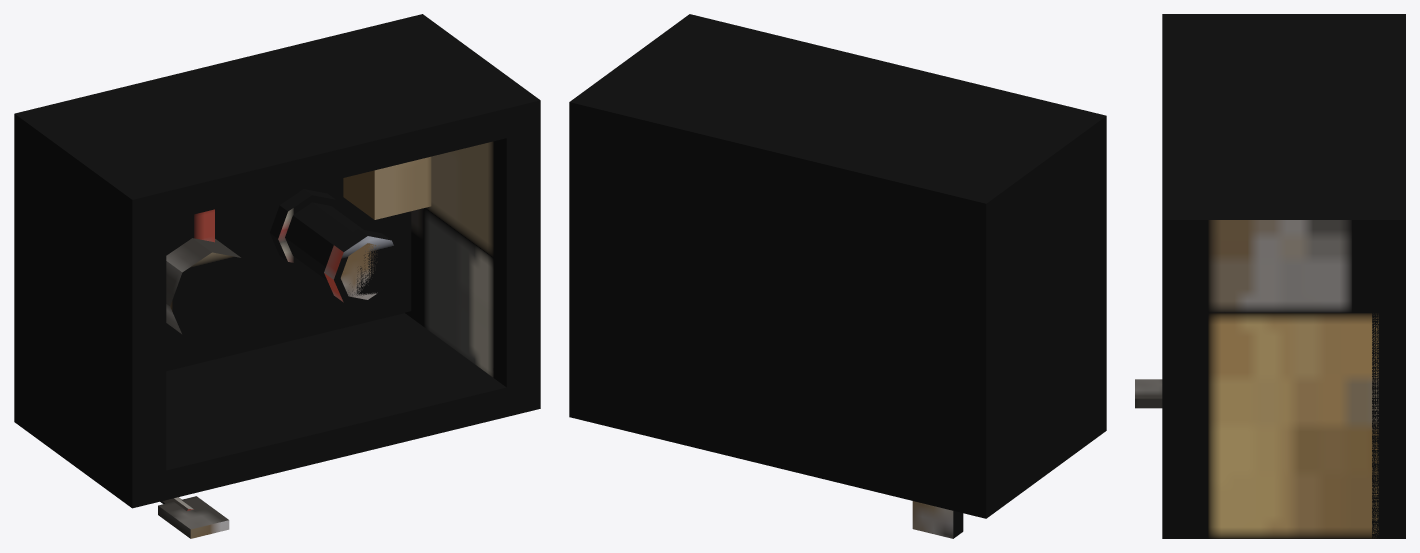
File: pz_house_makeshift_radio_open_v2.obj
3 renders of one model, left to right at view 1: azimuth 30°, elevation 25°; view 2: azimuth 150°, elevation 25°; view 3: azimuth 270°, elevation 25°, orthographic. The views are drawn at different scales.
Visible parts, largest first — view 1: pz_house_makeshift_radio_open_v2; view 2: pz_house_makeshift_radio_open_v2; view 3: pz_house_makeshift_radio_open_v2.
Part boxes in pixels (bbox=[...]): pz_house_makeshift_radio_open_v2: bbox=[14, 14, 540, 538]; pz_house_makeshift_radio_open_v2: bbox=[569, 14, 1106, 538]; pz_house_makeshift_radio_open_v2: bbox=[1135, 14, 1405, 538].
Size of the model in its own units: 0.36 by 0.294 by 0.2.
